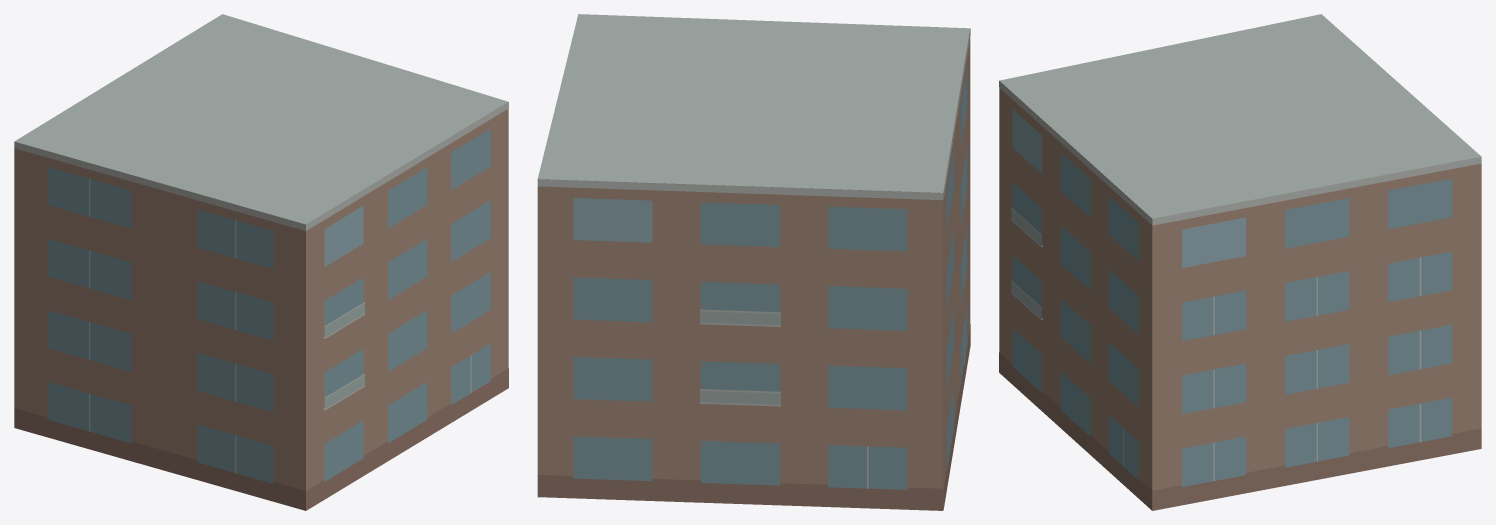
File: survey-upis-32704012.glb
The picture shows the model from 3 angles, left to right: view 1: azimuth 30°, elevation 25°; view 2: azimuth 150°, elevation 25°; view 3: azimuth 270°, elevation 25°; orthographic projection. The views are drawn at different scales.
Parts seen in each view (by area): view 1: survey-upis-32704012.tmp; view 2: survey-upis-32704012.tmp; view 3: survey-upis-32704012.tmp.
Part boxes in pixels (x1=…): survey-upis-32704012.tmp: x1=14, y1=14, x2=508, y2=510; survey-upis-32704012.tmp: x1=537, y1=14, x2=970, y2=510; survey-upis-32704012.tmp: x1=999, y1=14, x2=1481, y2=510.
Bounding box in the file's own units: 15.86 × 10.54 × 15.79.
